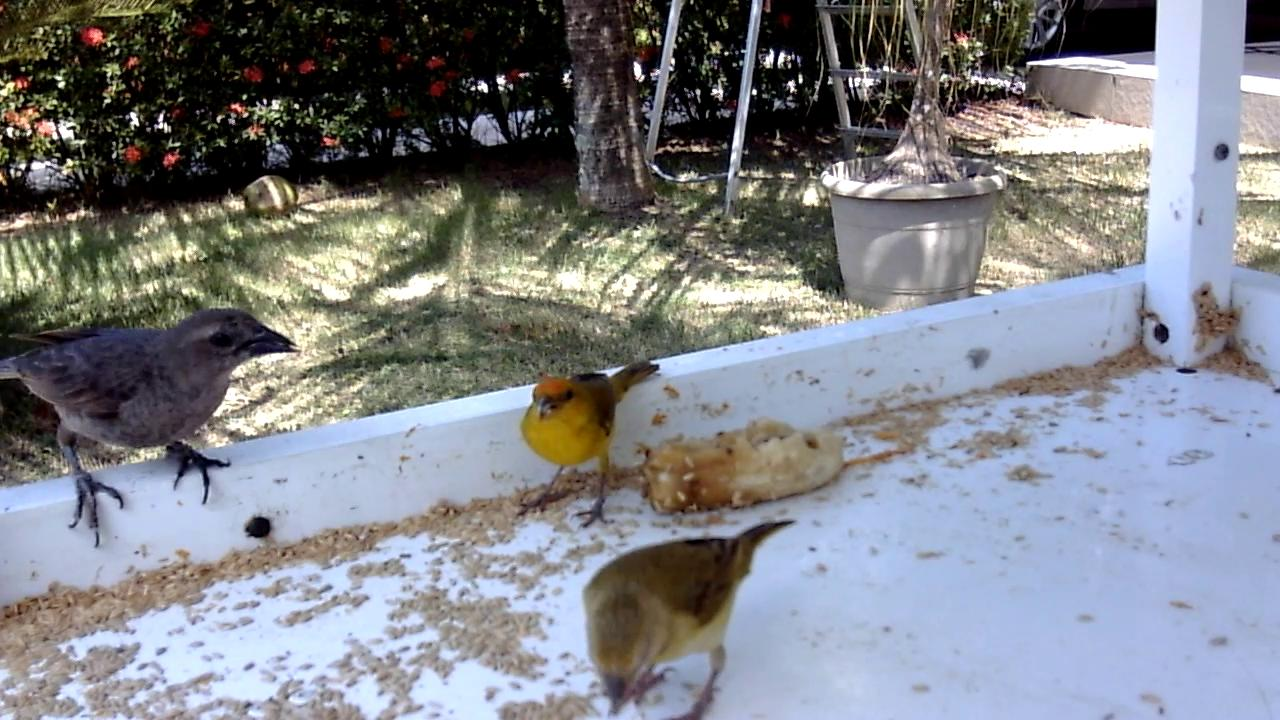canario_do_amazonas: (578, 518, 799, 720), (514, 356, 667, 534)
chupim: (1, 306, 303, 554)
